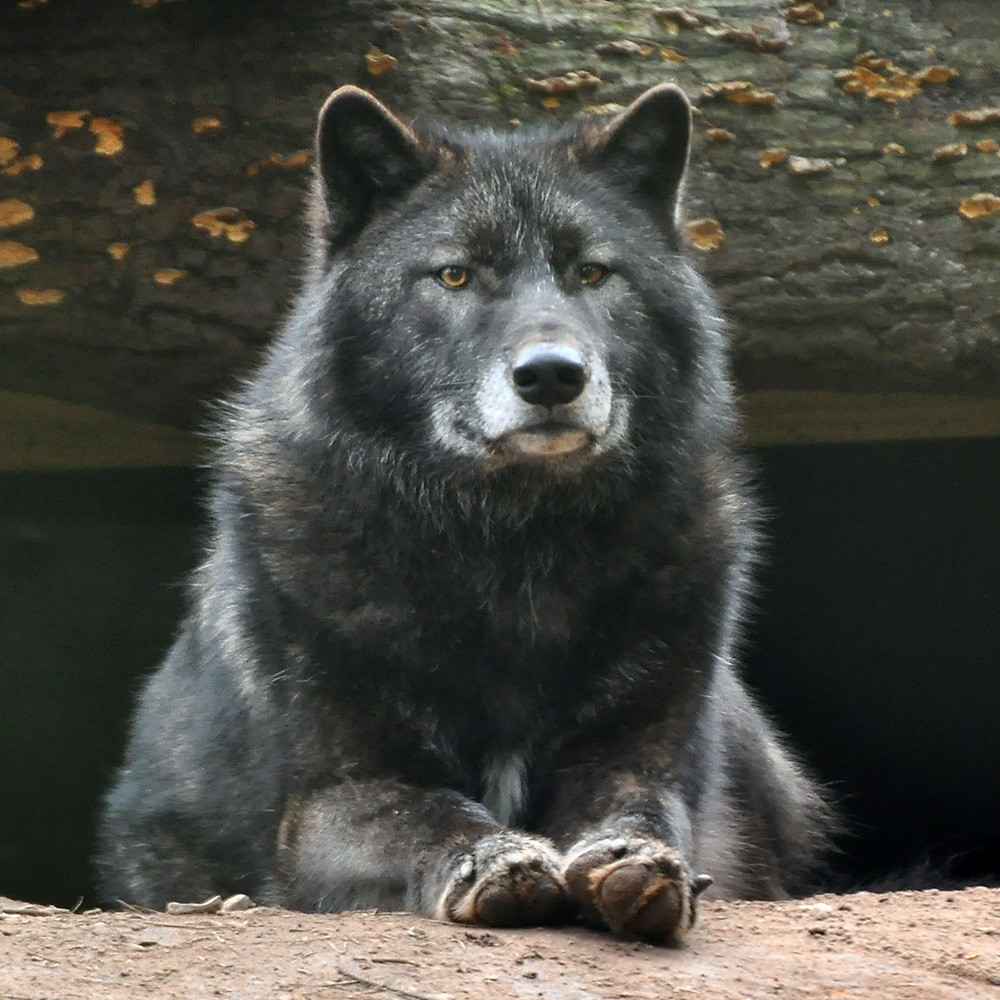wolf: (139, 114, 855, 932)
